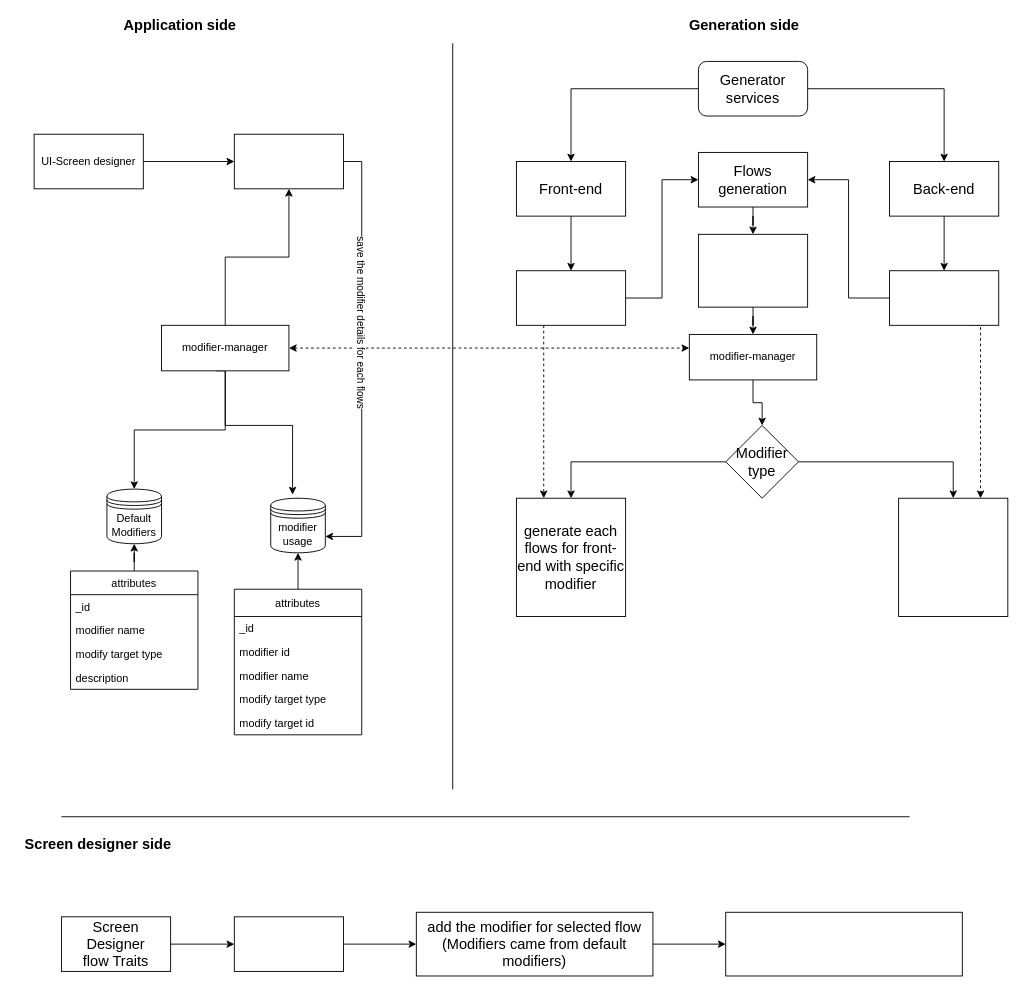
The diagram is 1024 pixels wide and 992 high, and some of its shapes have lost their labels. Here are the shapes that lost their labels. From the top down, the centre of each, then its label:
At (x=288, y=161): "Modifiers for each flows".
At (x=753, y=270): "Microflows generation (steps of flow generations)".
At (x=571, y=297): "Angular gen manager".
At (x=944, y=297): "Node gen manager".
At (x=953, y=557): "generate each flows for back-end with specific modifier".
At (x=288, y=943): "List of flows in table".
At (x=843, y=943): "save into the modifier usage table for selected flow.".
